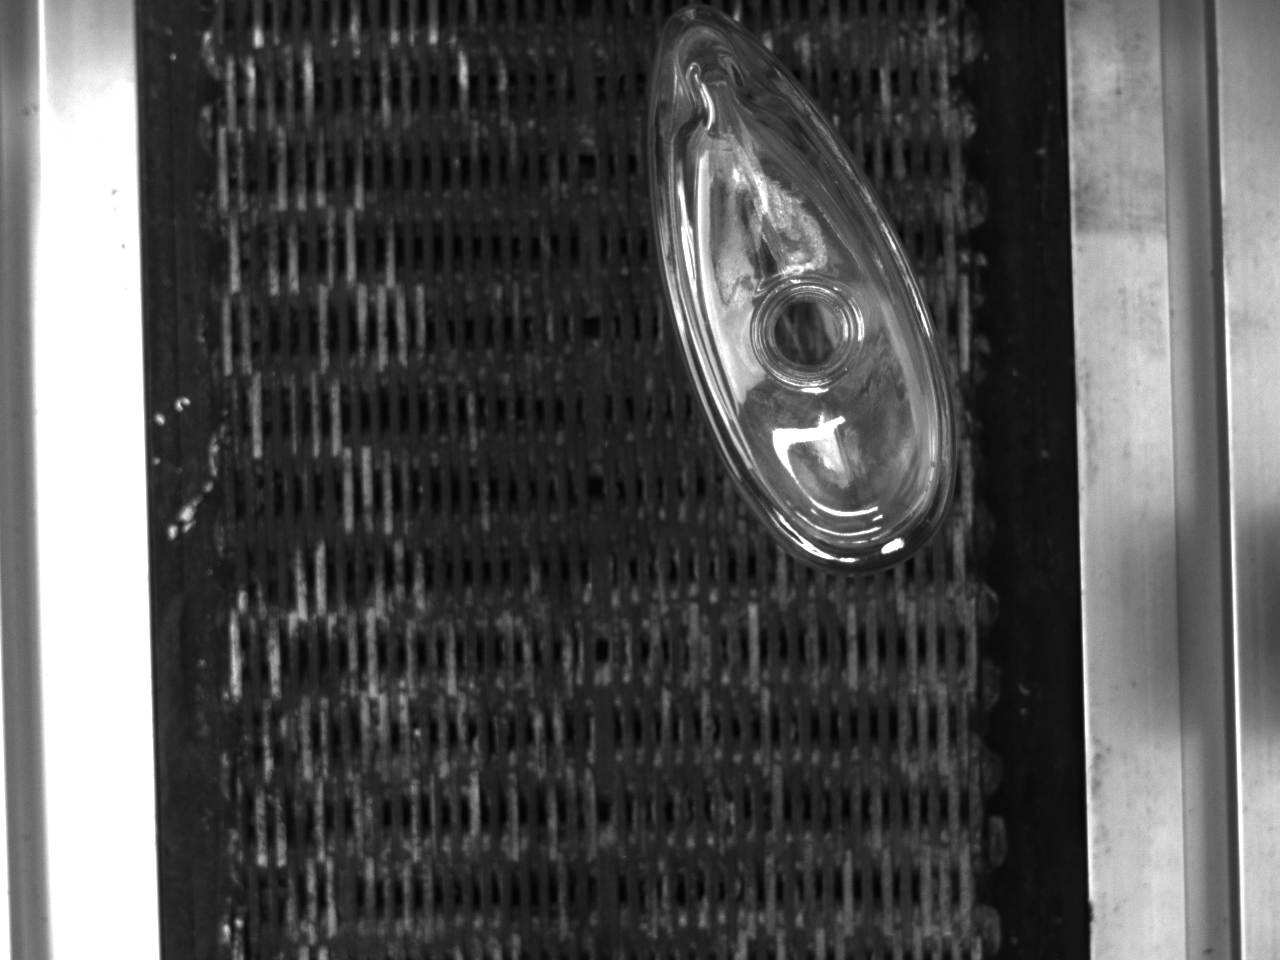bottleneck: (750, 277, 864, 389)
